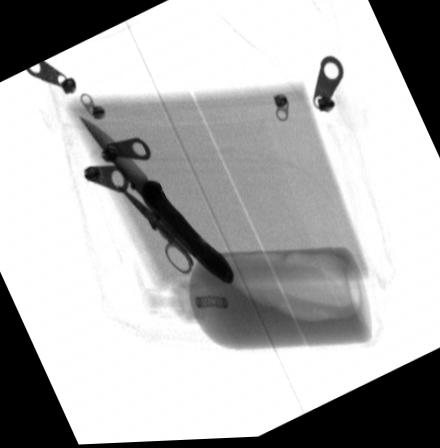Knife: (77, 112, 234, 288)
Scissors: (122, 187, 201, 277)
